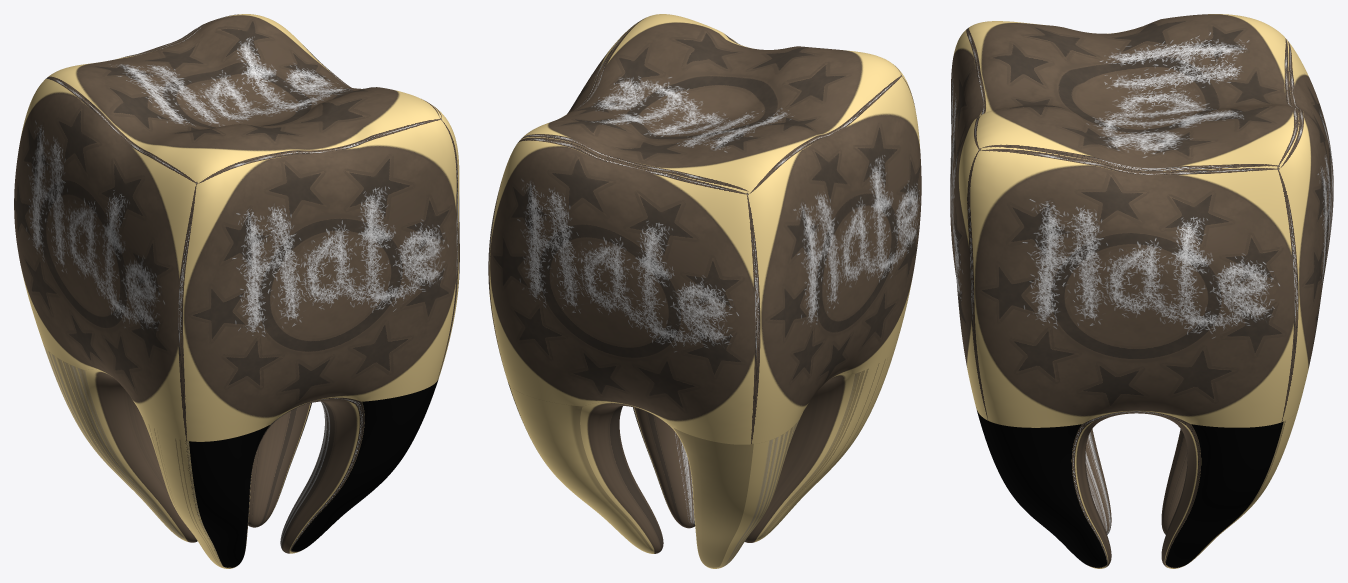
File: teeth.glb
The picture shows the model from 3 angles, left to right: view 1: azimuth 30°, elevation 25°; view 2: azimuth 150°, elevation 25°; view 3: azimuth 270°, elevation 25°; orthographic projection. The views are drawn at different scales.
Visible parts, largest first — view 1: Connect (×2); view 2: Connect; view 3: Connect (×3).
Part boxes in pixels (left/top/right/bottom): Connect (×2): left=14, top=14, right=459, bottom=568; Connect: left=488, top=14, right=921, bottom=568; Connect (×3): left=950, top=14, right=1333, bottom=568.
Bounding box in the file's own units: 244 × 348 × 251.
Materials: 3 (3 with a texture image).
